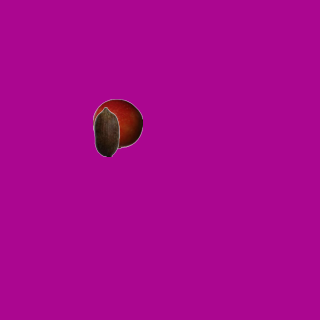Apple Braeburn: (92, 98, 142, 148)
Nut Pecan: (81, 106, 131, 156)
